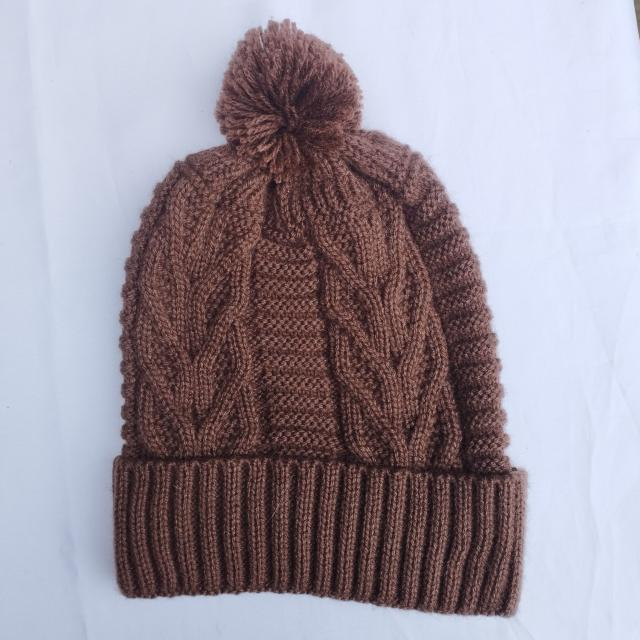Gorro: (112, 18, 528, 618)
